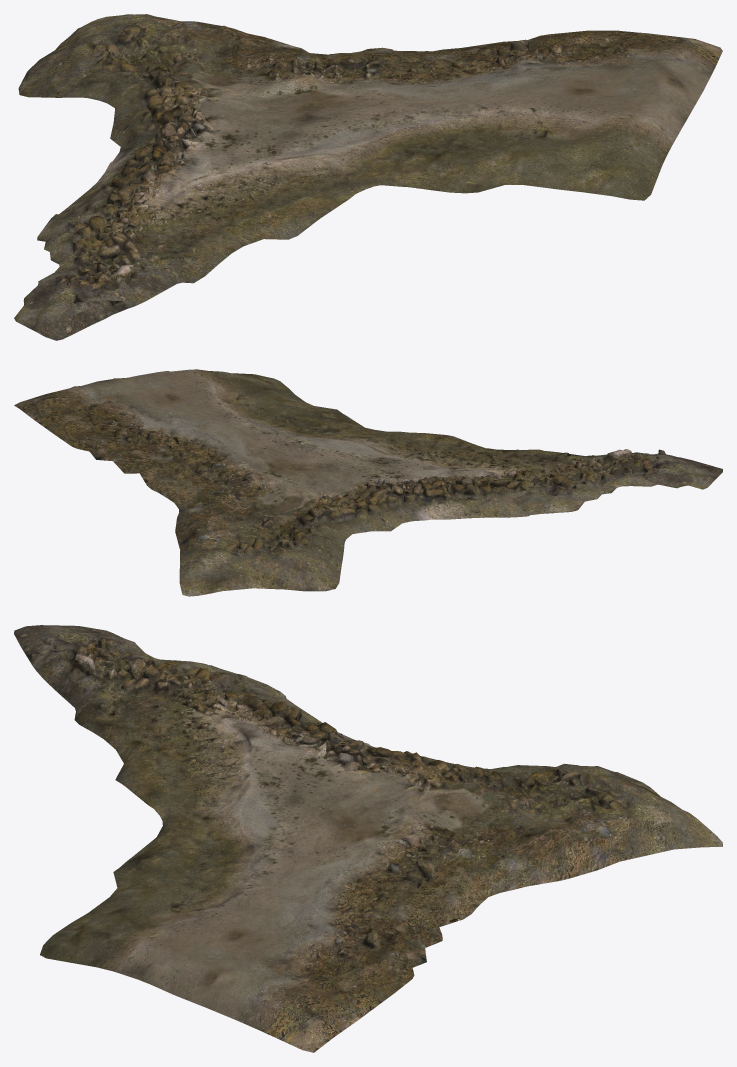
Rendered from coast_rocks_01.glb.
The picture shows the model from 3 angles, top to bottom: view 1: azimuth 30°, elevation 25°; view 2: azimuth 150°, elevation 25°; view 3: azimuth 270°, elevation 25°; orthographic projection. The views are drawn at different scales.
Visible parts, largest first — view 1: coast_rocks_01; view 2: coast_rocks_01; view 3: coast_rocks_01.
Part boxes in pixels (left/top/right/bottom): coast_rocks_01: left=14, top=14, right=722, bottom=340; coast_rocks_01: left=14, top=369, right=722, bottom=596; coast_rocks_01: left=14, top=625, right=722, bottom=1052.
Bounding box in the file's own units: 59.51 × 3.29 × 42.51.
1 material, 1 textured.
